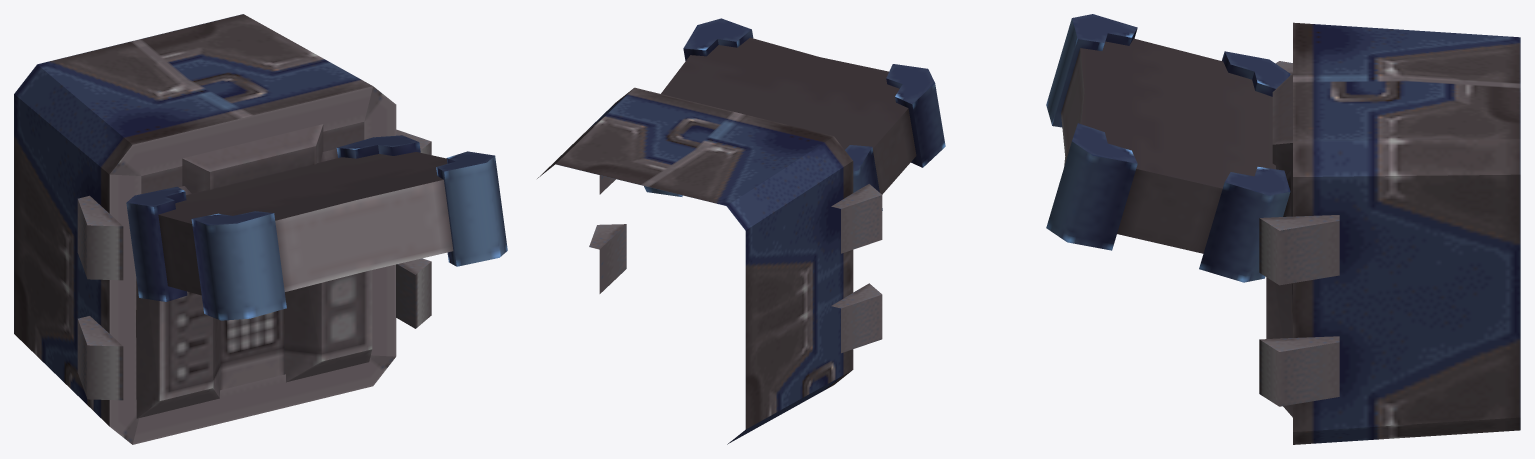
The model's file is toughbox_computer.glb.
3 renders of one model, left to right at view 1: azimuth 30°, elevation 25°; view 2: azimuth 150°, elevation 25°; view 3: azimuth 270°, elevation 25°, orthographic. The views are drawn at different scales.
Parts seen in each view (by area): view 1: knights.toughbox_computer-MeshNodes["knights_computerbox"], knights.toughbox_computer-MeshNodes["knights_computerbox_con; view 2: knights.toughbox_computer-MeshNodes["knights_computerbox"], knights.toughbox_computer-MeshNodes["knights_computerbox_con; view 3: knights.toughbox_computer-MeshNodes["knights_computerbox"], knights.toughbox_computer-MeshNodes["knights_computerbox_con.
Boxes of the visible parts, left/top/right/bottom form: knights.toughbox_computer-MeshNodes["knights_computerbox"]: left=14, top=14, right=431, bottom=444; knights.toughbox_computer-MeshNodes["knights_computerbox_con: left=126, top=122, right=507, bottom=418; knights.toughbox_computer-MeshNodes["knights_computerbox"]: left=537, top=87, right=882, bottom=444; knights.toughbox_computer-MeshNodes["knights_computerbox_con: left=644, top=18, right=945, bottom=210; knights.toughbox_computer-MeshNodes["knights_computerbox"]: left=1259, top=22, right=1520, bottom=444; knights.toughbox_computer-MeshNodes["knights_computerbox_con: left=1046, top=14, right=1292, bottom=417.
Size of the model in its own units: 1.3 by 1.15 by 1.76.
3 materials, 2 textured.
